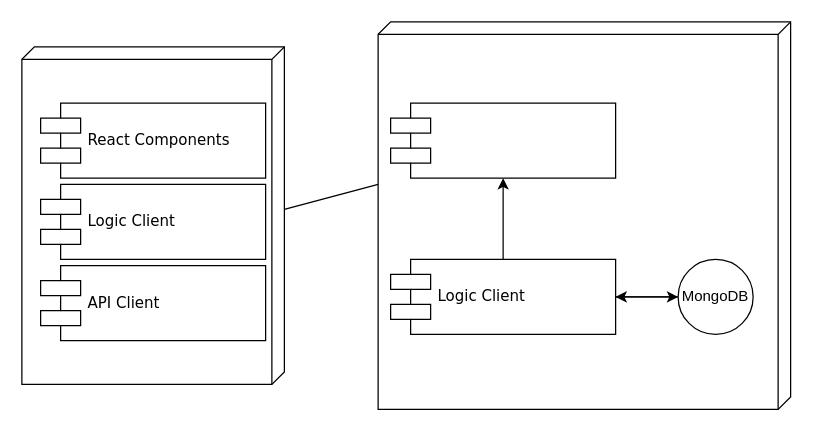
Some shapes in this 813 by 431 pixel diagram are drawn without their labels. The shapes that lost their labels are listed below. From the top down, each one's box as (x1, y1, x2, y2) in pixels, then its label:
(389, 102, 616, 178): Express
(21, 46, 284, 384): Client Side
(377, 21, 791, 409): Server Side
